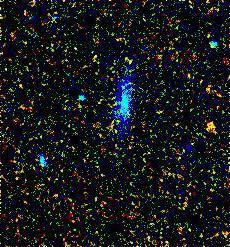star: (193, 107, 223, 137)
